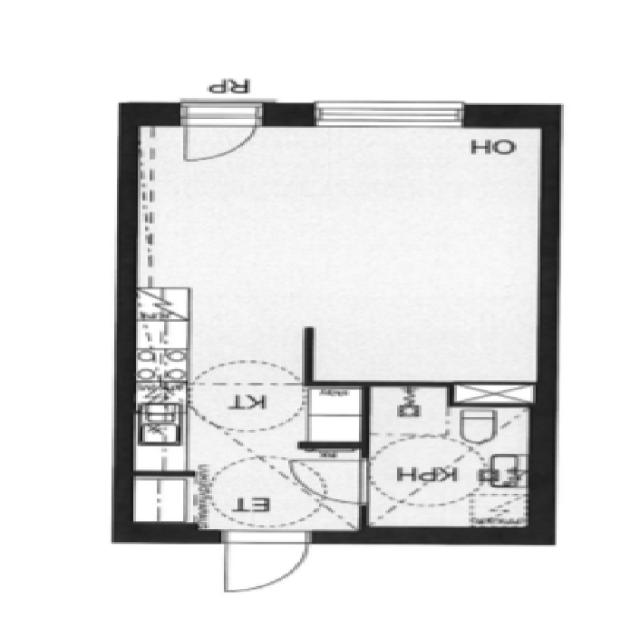door: (218, 528, 318, 596), (172, 97, 260, 163), (284, 453, 374, 507)
window: (304, 100, 470, 126)
zone: (132, 110, 538, 380), (359, 380, 528, 530)
